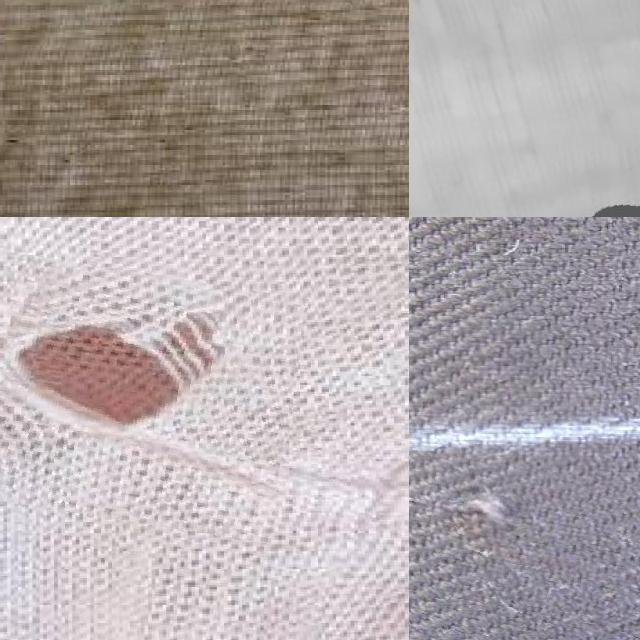Hole: (545, 138, 640, 217)
Thread_other: (409, 451, 640, 640)
seam: (0, 263, 301, 532)
